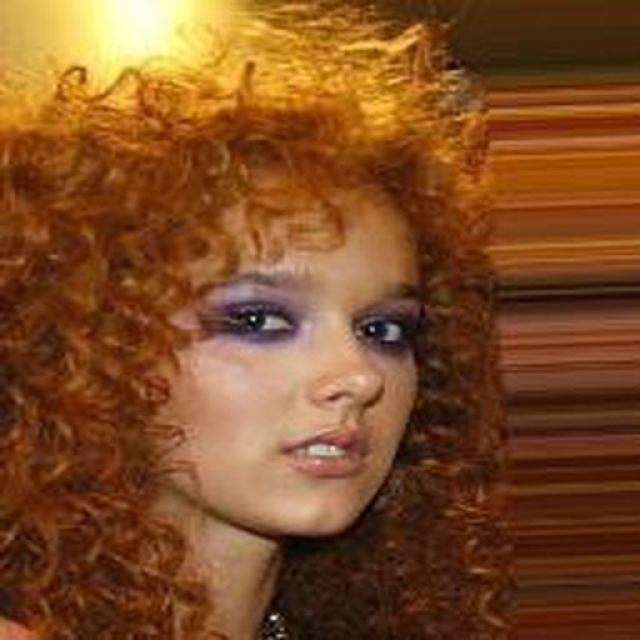bareface: (98, 117, 424, 548)
